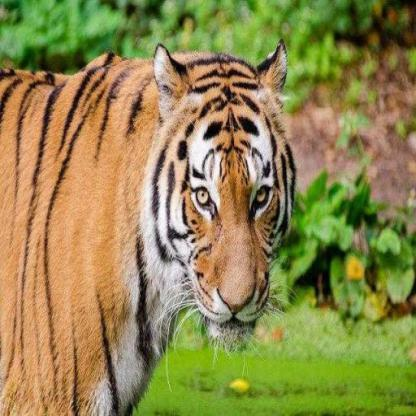Tiger: (0, 41, 298, 416)
